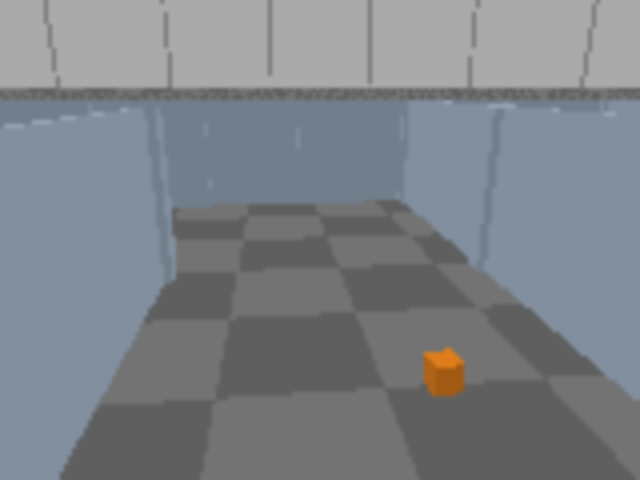puck: (422, 349, 465, 398)
